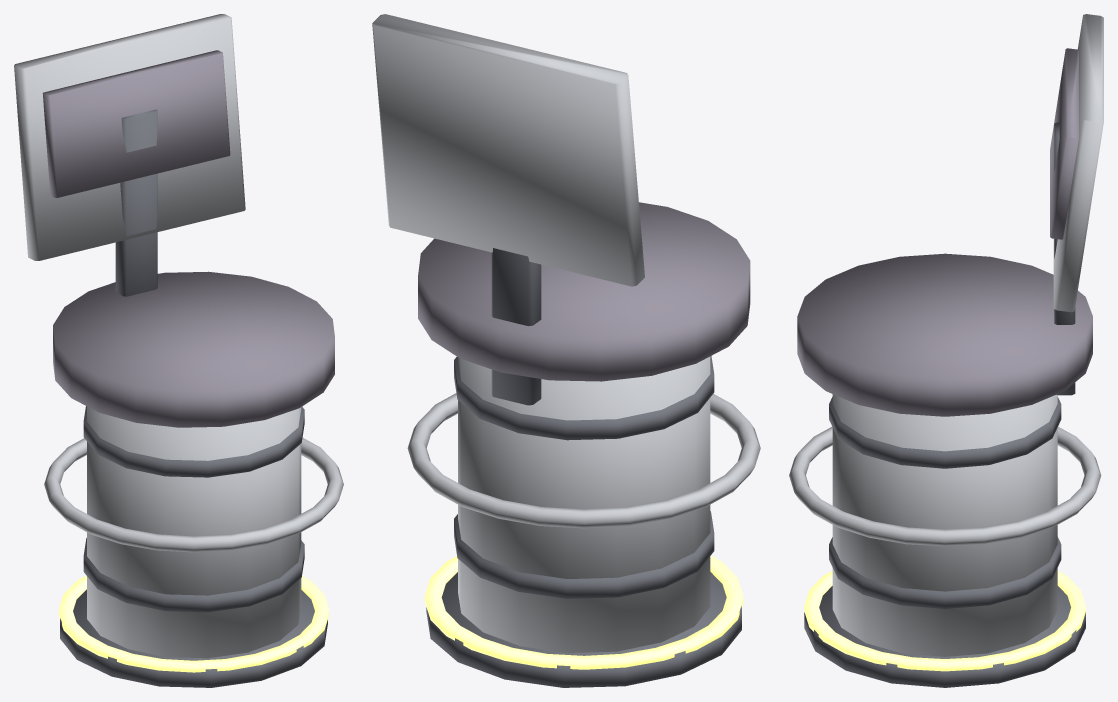
The model's file is iter_02.glb.
3 views of the same model, side by side, from view 1: azimuth 30°, elevation 25°; view 2: azimuth 150°, elevation 25°; view 3: azimuth 270°, elevation 25° (orthographic). The views are drawn at different scales.
Visible parts, largest first — view 1: Drum, Seat, Backrest, BackPad, FootRing, Base, BackPost, MagRing, Band_0, Band_1; view 2: Backrest, Drum, Seat, FootRing, Base, MagRing, Band_0, Band_1, BackPost; view 3: Drum, Seat, FootRing, Backrest, Base, MagRing, Band_1, Band_0, BackPad, BackPost.
Boxes of the visible parts, x1=… form: Drum: x1=87, y1=406, x2=301, y2=658; Seat: x1=53, y1=271, x2=334, y2=427; Backrest: x1=14, y1=14, x2=245, y2=260; BackPad: x1=42, y1=50, x2=230, y2=197; FootRing: x1=44, y1=438, x2=343, y2=552; Base: x1=60, y1=589, x2=327, y2=687; BackPost: x1=115, y1=109, x2=157, y2=296; MagRing: x1=59, y1=575, x2=328, y2=672; Band_0: x1=83, y1=538, x2=304, y2=612; Band_1: x1=83, y1=406, x2=304, y2=477; Backrest: x1=372, y1=14, x2=644, y2=286; Drum: x1=458, y1=356, x2=710, y2=652; Seat: x1=418, y1=202, x2=750, y2=381; FootRing: x1=407, y1=393, x2=760, y2=528; Base: x1=426, y1=572, x2=741, y2=687; MagRing: x1=425, y1=556, x2=743, y2=669; Band_0: x1=454, y1=511, x2=714, y2=598; Band_1: x1=454, y1=356, x2=714, y2=440; BackPost: x1=491, y1=248, x2=541, y2=405; Drum: x1=832, y1=394, x2=1057, y2=656; Seat: x1=797, y1=253, x2=1092, y2=416; FootRing: x1=789, y1=426, x2=1101, y2=546; Backrest: x1=1053, y1=14, x2=1103, y2=312; Base: x1=804, y1=586, x2=1085, y2=687; MagRing: x1=804, y1=571, x2=1085, y2=671; Band_1: x1=829, y1=397, x2=1061, y2=468; Band_0: x1=829, y1=537, x2=1061, y2=608; BackPad: x1=1050, y1=48, x2=1078, y2=239; BackPost: x1=1054, y1=122, x2=1075, y2=395.
Size of the model in its own units: 0.444 by 0.8806 by 0.4477.
